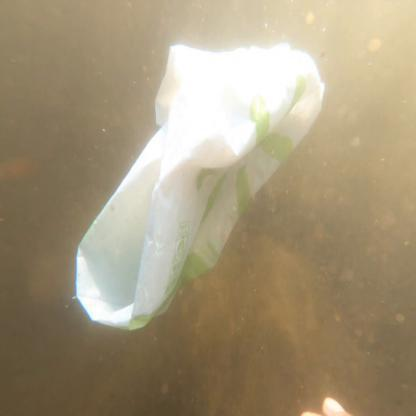Rác: (95, 31, 325, 306)
